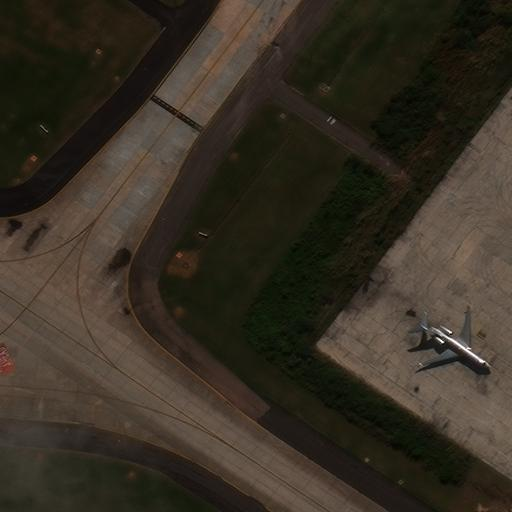Medium Civil Transport: (416, 307, 488, 367)
